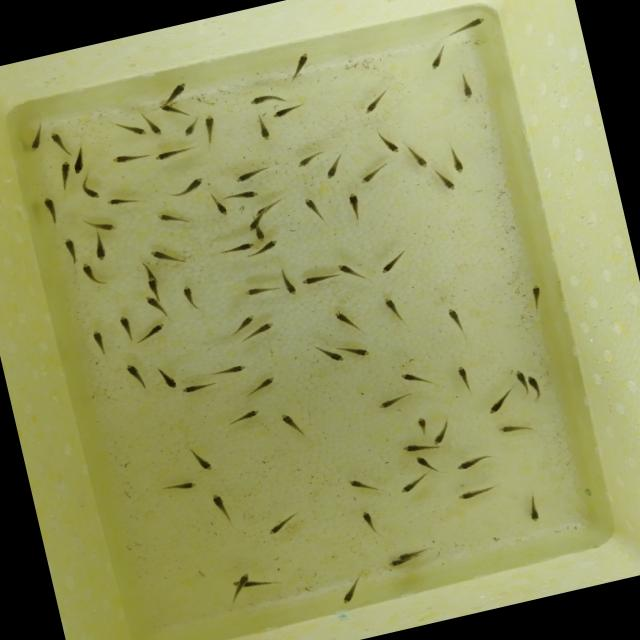fingerling: (148, 362, 184, 396), (390, 364, 429, 392), (450, 482, 494, 504), (159, 79, 194, 106), (480, 391, 516, 417), (333, 308, 364, 338), (342, 471, 378, 496), (228, 307, 262, 333), (377, 130, 406, 160), (149, 206, 188, 228), (378, 250, 411, 276), (174, 174, 213, 196), (274, 408, 302, 438), (427, 416, 455, 446), (228, 166, 268, 187), (118, 118, 150, 144), (177, 284, 203, 316), (262, 514, 298, 537), (207, 488, 231, 522), (333, 581, 362, 609), (286, 49, 316, 76), (379, 292, 404, 324), (237, 280, 277, 300), (136, 322, 169, 346), (145, 292, 172, 321), (252, 194, 286, 217), (81, 260, 107, 290), (452, 452, 491, 472), (174, 378, 211, 399), (396, 476, 431, 498), (156, 98, 188, 122), (69, 144, 93, 176), (372, 392, 410, 412), (320, 154, 346, 183), (333, 258, 362, 284), (123, 358, 148, 388), (298, 268, 332, 290), (358, 92, 388, 116), (218, 240, 258, 258), (248, 374, 280, 396), (48, 126, 70, 158), (276, 270, 301, 298), (246, 318, 281, 338), (524, 372, 547, 402), (197, 108, 220, 138), (454, 15, 490, 34), (190, 448, 216, 474), (152, 146, 194, 162), (108, 148, 145, 166), (250, 90, 286, 108), (236, 575, 274, 592), (230, 185, 264, 204), (23, 124, 46, 152), (410, 415, 433, 443), (90, 216, 122, 236), (456, 70, 476, 102), (232, 405, 264, 425), (403, 438, 436, 457), (178, 114, 204, 138), (292, 150, 320, 172), (415, 452, 440, 476), (522, 492, 542, 522), (408, 144, 430, 171), (210, 362, 247, 378), (317, 346, 346, 366), (166, 476, 202, 492), (434, 166, 456, 192), (92, 236, 114, 262), (508, 362, 530, 388), (42, 192, 62, 220), (144, 112, 165, 138), (444, 306, 464, 333), (148, 246, 178, 264), (118, 315, 136, 345), (492, 421, 528, 436), (424, 48, 446, 72), (358, 505, 377, 532), (362, 164, 390, 182), (446, 146, 464, 174), (54, 157, 72, 185), (526, 284, 546, 309), (347, 342, 372, 362), (210, 196, 230, 220), (454, 363, 472, 389), (106, 193, 136, 208), (346, 188, 362, 216), (90, 328, 106, 356), (398, 547, 429, 561), (63, 238, 81, 262), (303, 194, 320, 218), (260, 235, 284, 252), (84, 182, 104, 202), (268, 106, 296, 120), (256, 120, 272, 142), (382, 556, 406, 570), (235, 568, 252, 586), (145, 275, 160, 295), (247, 215, 264, 231), (252, 228, 271, 242), (142, 260, 154, 280)
